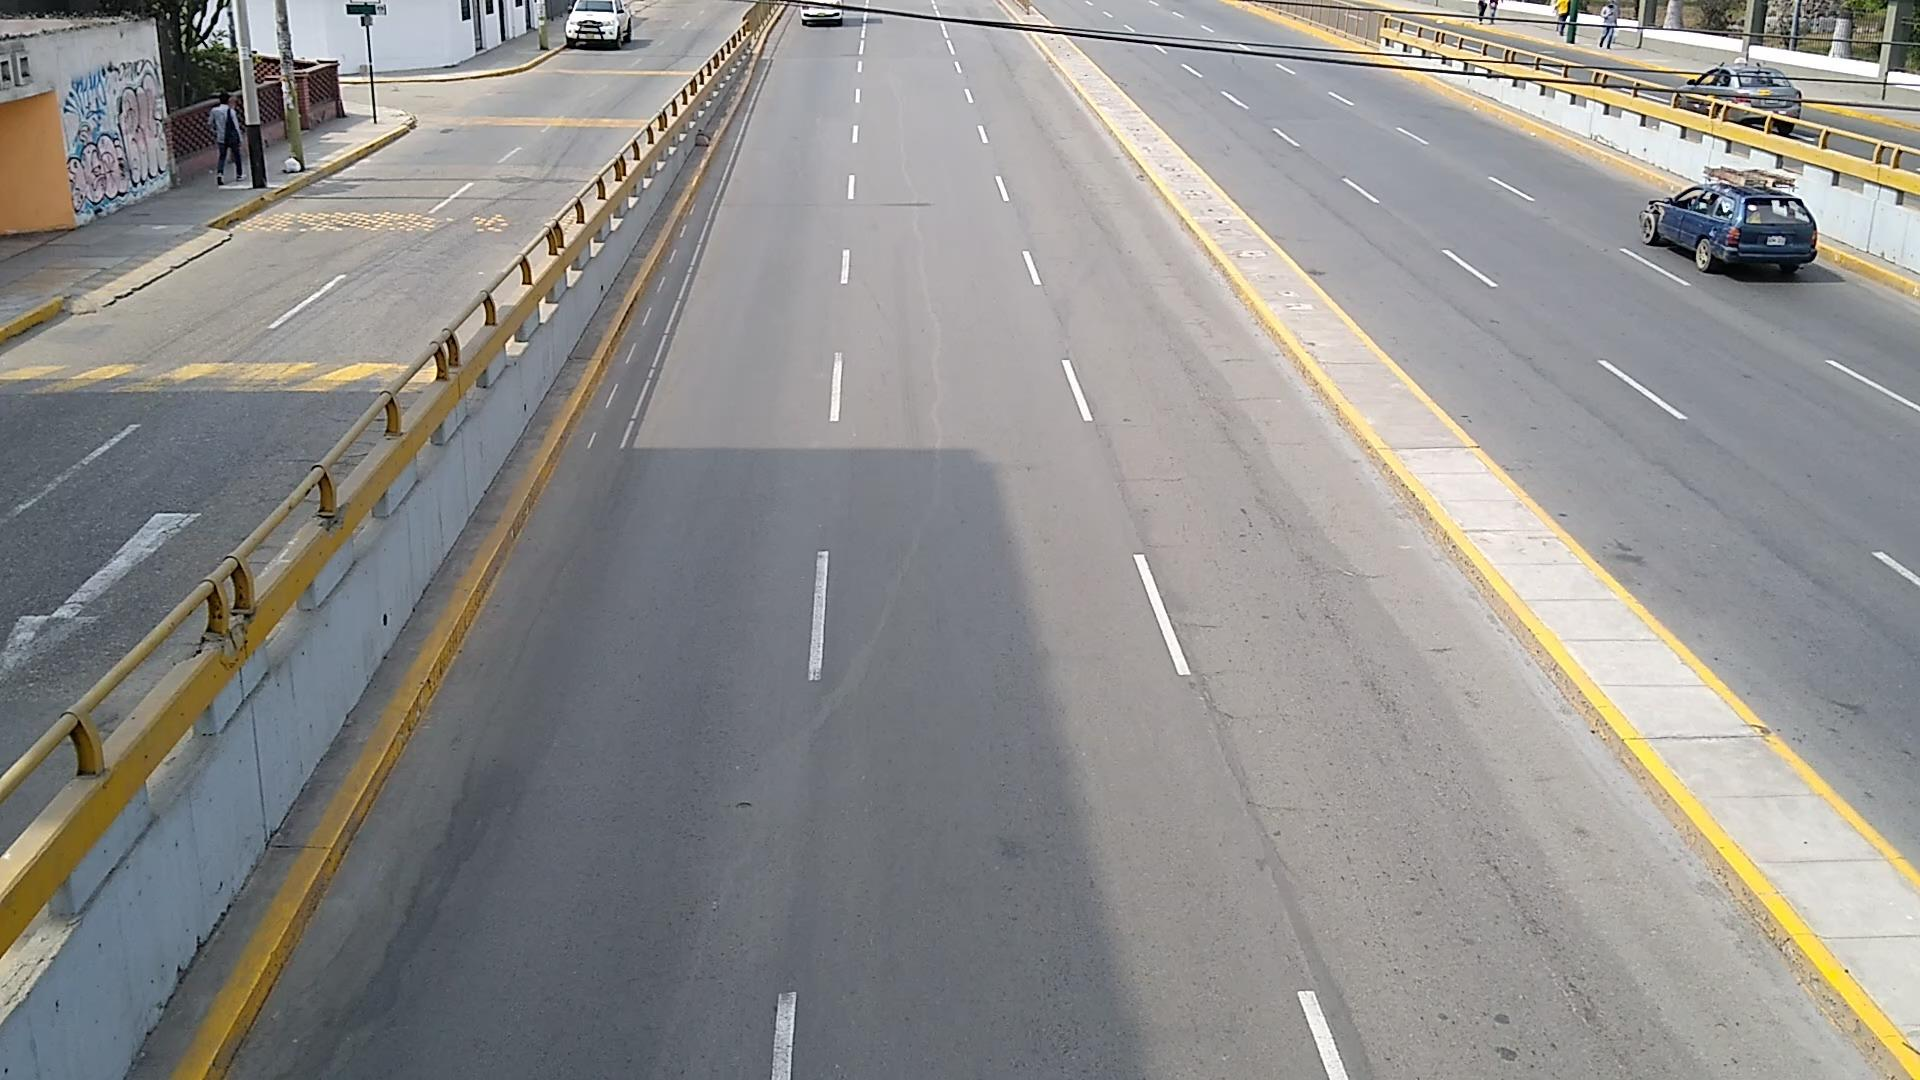car: (1643, 179, 1818, 274), (1672, 63, 1804, 135), (566, 0, 634, 49)
